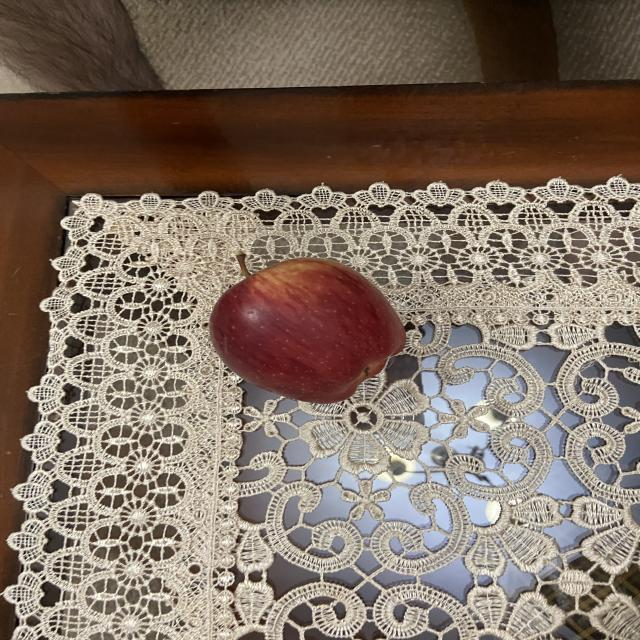apple: (206, 246, 404, 404)
